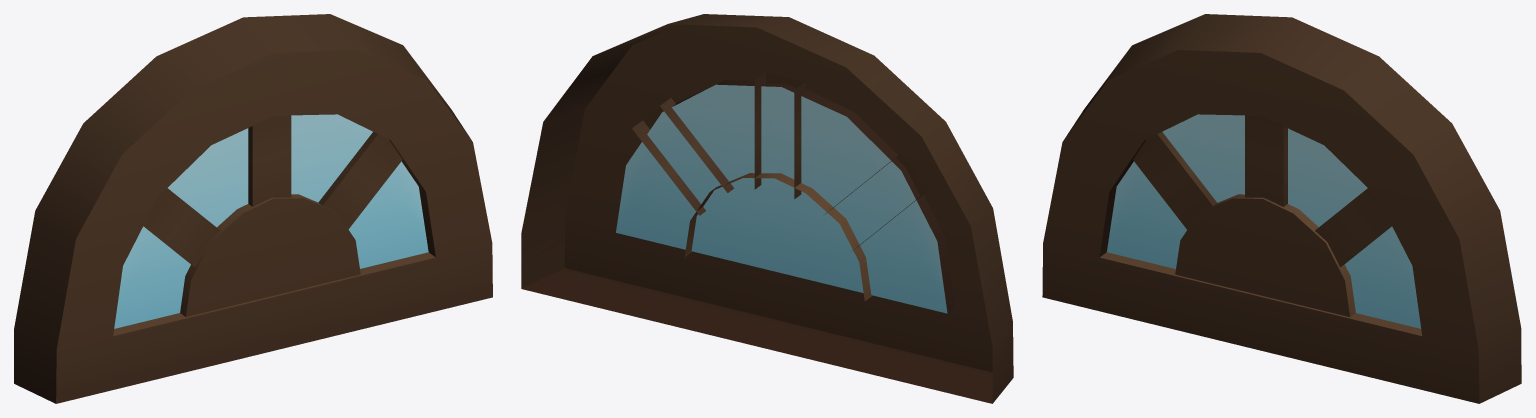
The model's file is Window_08B.fbx.
3 renders of one model, left to right at view 1: azimuth 30°, elevation 25°; view 2: azimuth 150°, elevation 25°; view 3: azimuth 330°, elevation 25°, orthographic. The views are drawn at different scales.
Visible parts, largest first — view 1: Window_08B; view 2: Window_08B; view 3: Window_08B.
Part boxes in pixels (left/top/right/bottom): Window_08B: left=14, top=14, right=492, bottom=403; Window_08B: left=521, top=14, right=1013, bottom=403; Window_08B: left=1042, top=14, right=1521, bottom=403.
Bounding box in the file's own units: 157 × 102 × 18.53.
Materials: 2 (2 with a texture image).
